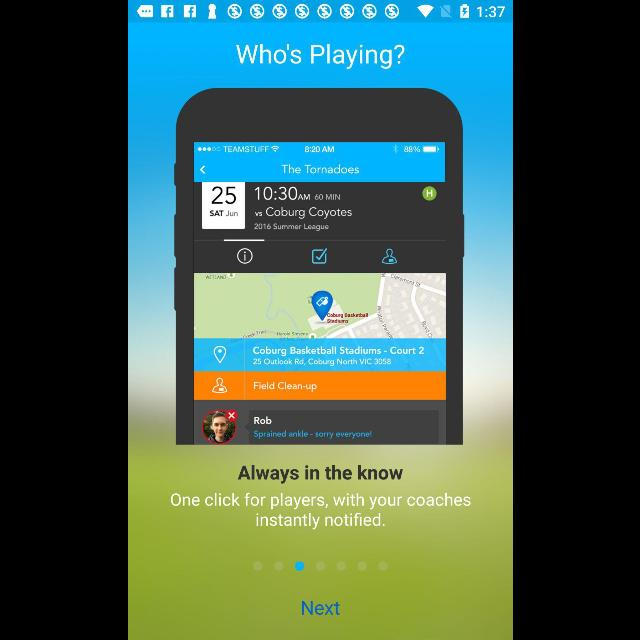image: (174, 88, 464, 444)
pageindicator: (252, 560, 388, 572)
text: (170, 492, 470, 530), (236, 44, 404, 70), (236, 464, 402, 484), (301, 601, 339, 615)
uppertaskbar: (128, 1, 512, 23)
